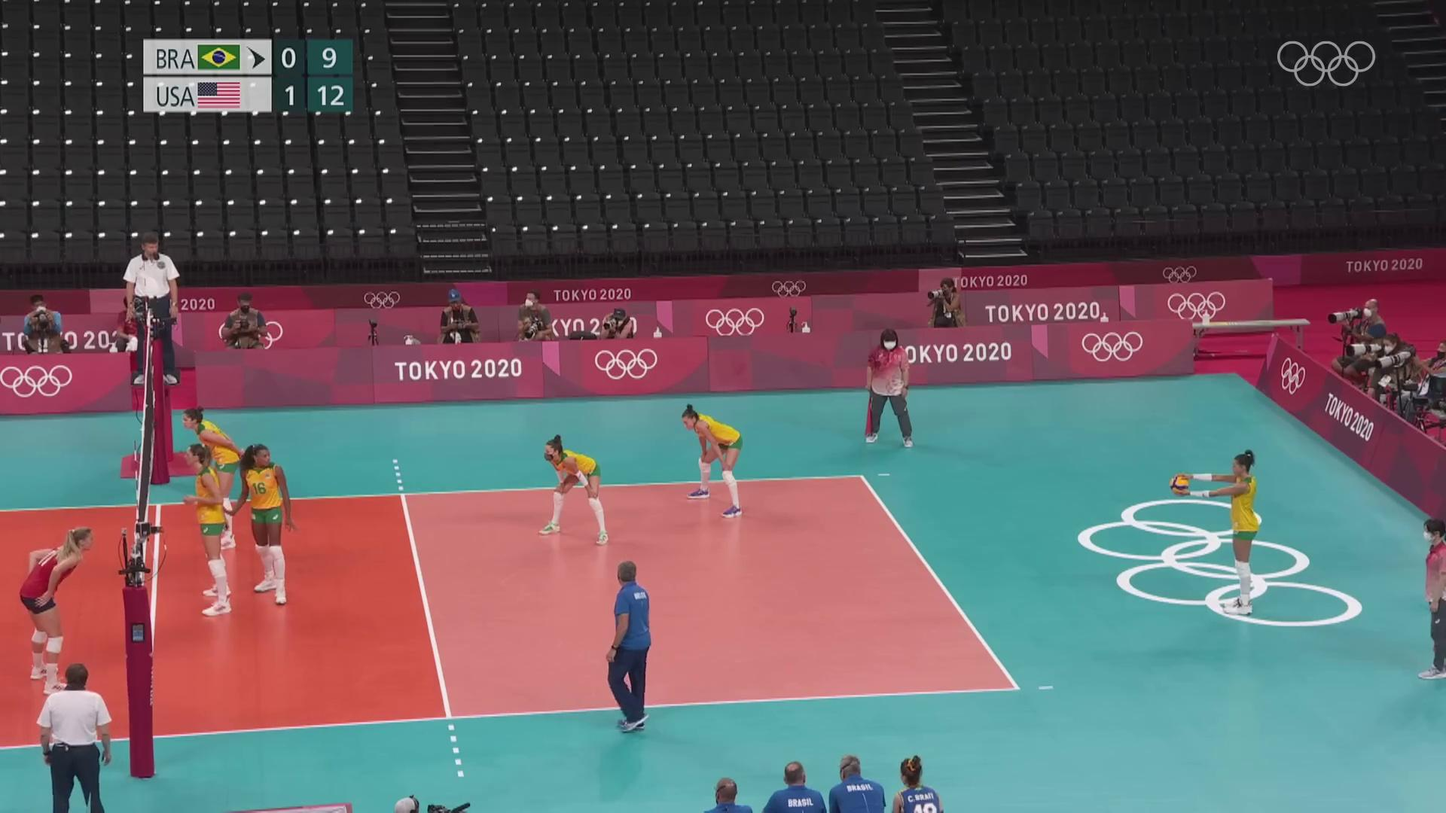player: (1172, 452, 1261, 613), (20, 527, 95, 694), (231, 446, 297, 609), (181, 408, 240, 548), (186, 444, 233, 615), (534, 437, 609, 541), (676, 409, 741, 518)
refree: (34, 666, 112, 810), (124, 235, 178, 384), (862, 327, 917, 449)
